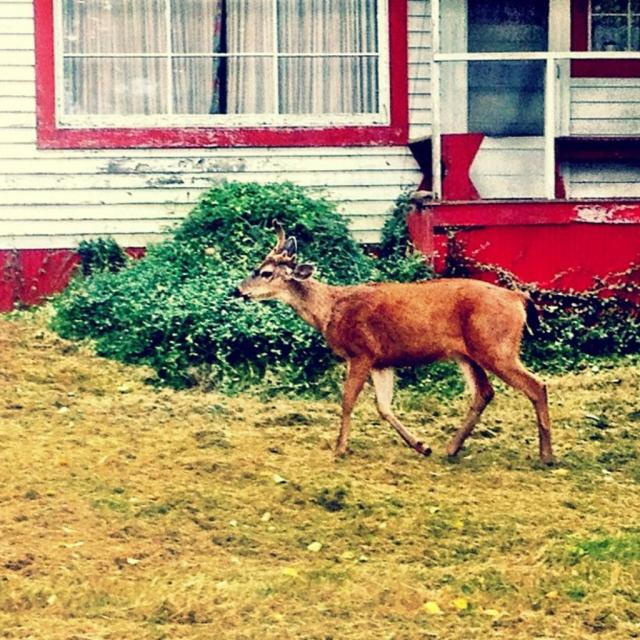Deer: (228, 212, 554, 472)
